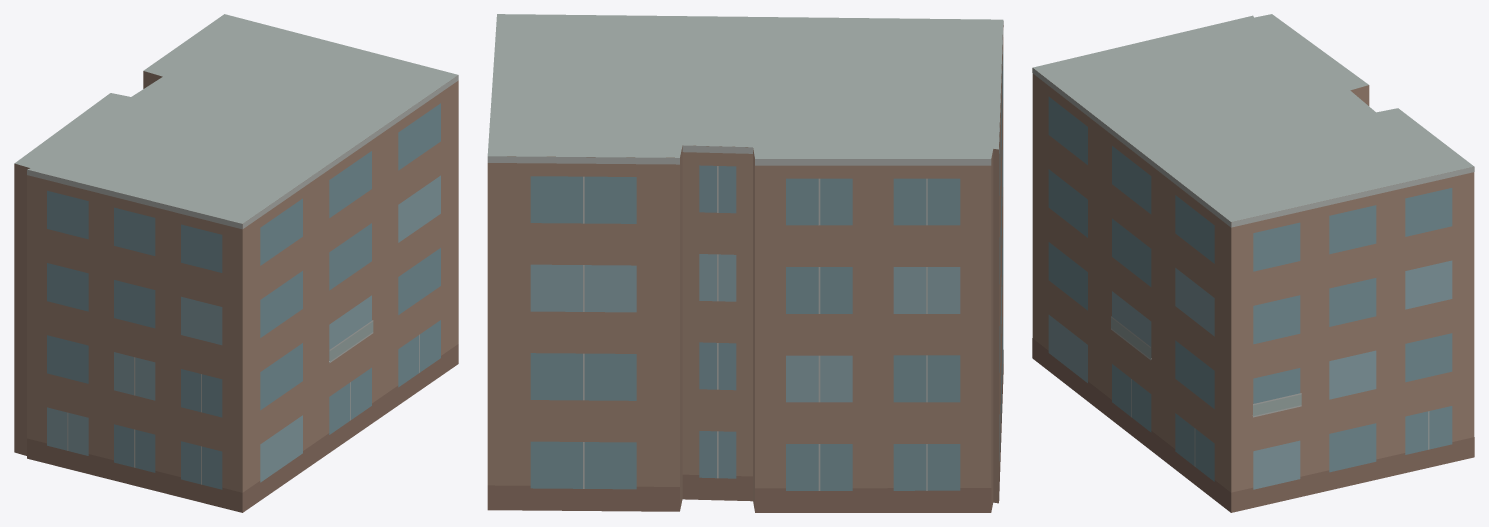
The model's file is survey-upis-32637797.glb.
The picture shows the model from 3 angles, left to right: view 1: azimuth 30°, elevation 25°; view 2: azimuth 150°, elevation 25°; view 3: azimuth 270°, elevation 25°; orthographic projection. The views are drawn at different scales.
Parts seen in each view (by area): view 1: survey-upis-32637797.tmp; view 2: survey-upis-32637797.tmp; view 3: survey-upis-32637797.tmp.
Part boxes in pixels (x1=…): survey-upis-32637797.tmp: x1=14, y1=14, x2=458, y2=512; survey-upis-32637797.tmp: x1=487, y1=14, x2=1003, y2=512; survey-upis-32637797.tmp: x1=1032, y1=14, x2=1474, y2=512.
Size of the model in its own units: 19.81 by 12.9 by 17.78.
